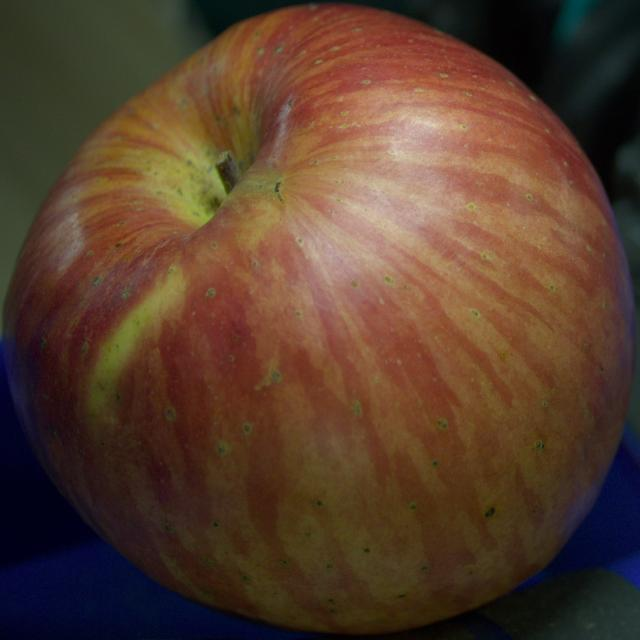apple: (4, 4, 634, 633)
pest: (485, 508, 495, 518)
